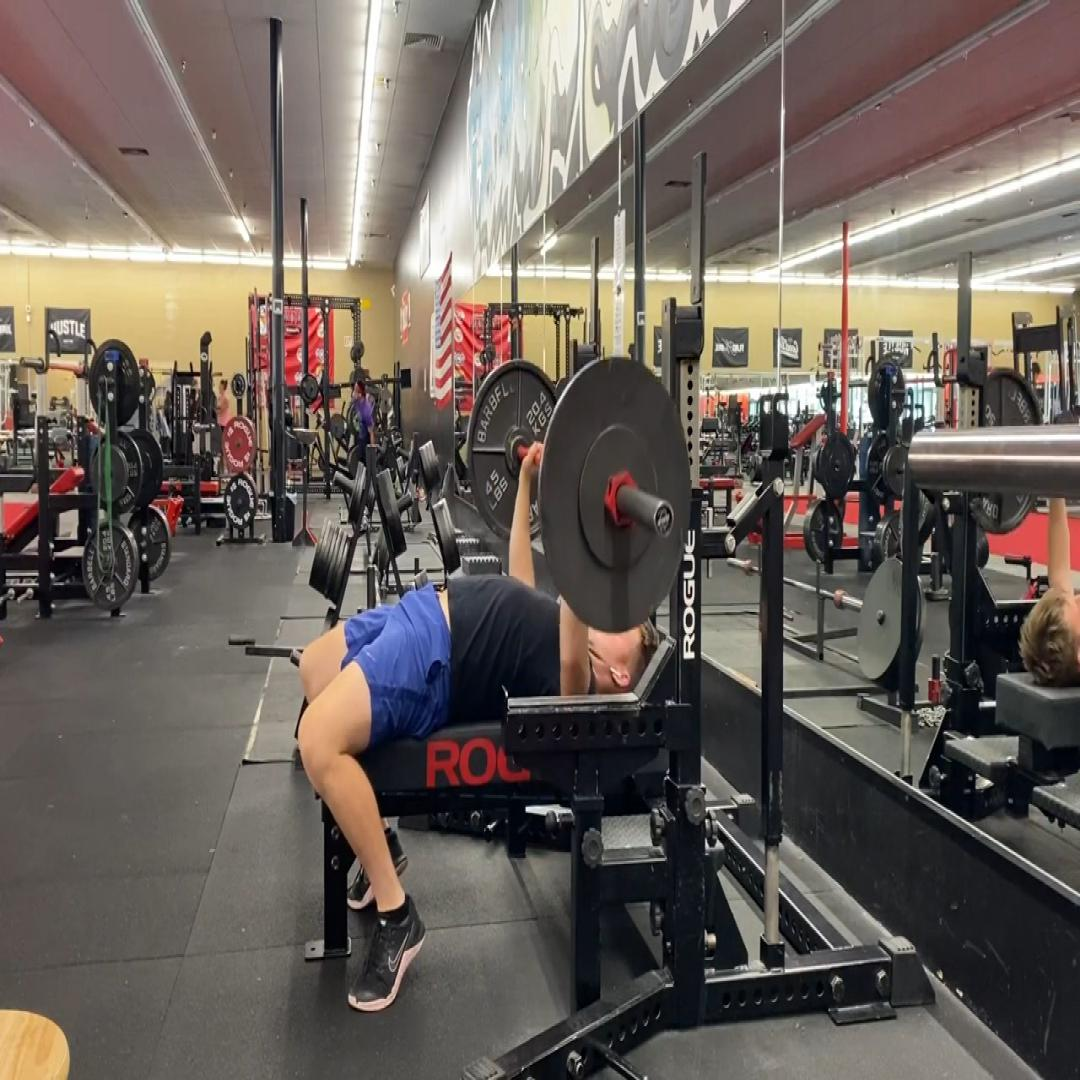Bar: (653, 500, 674, 540)
Barbell: (538, 357, 692, 635)
